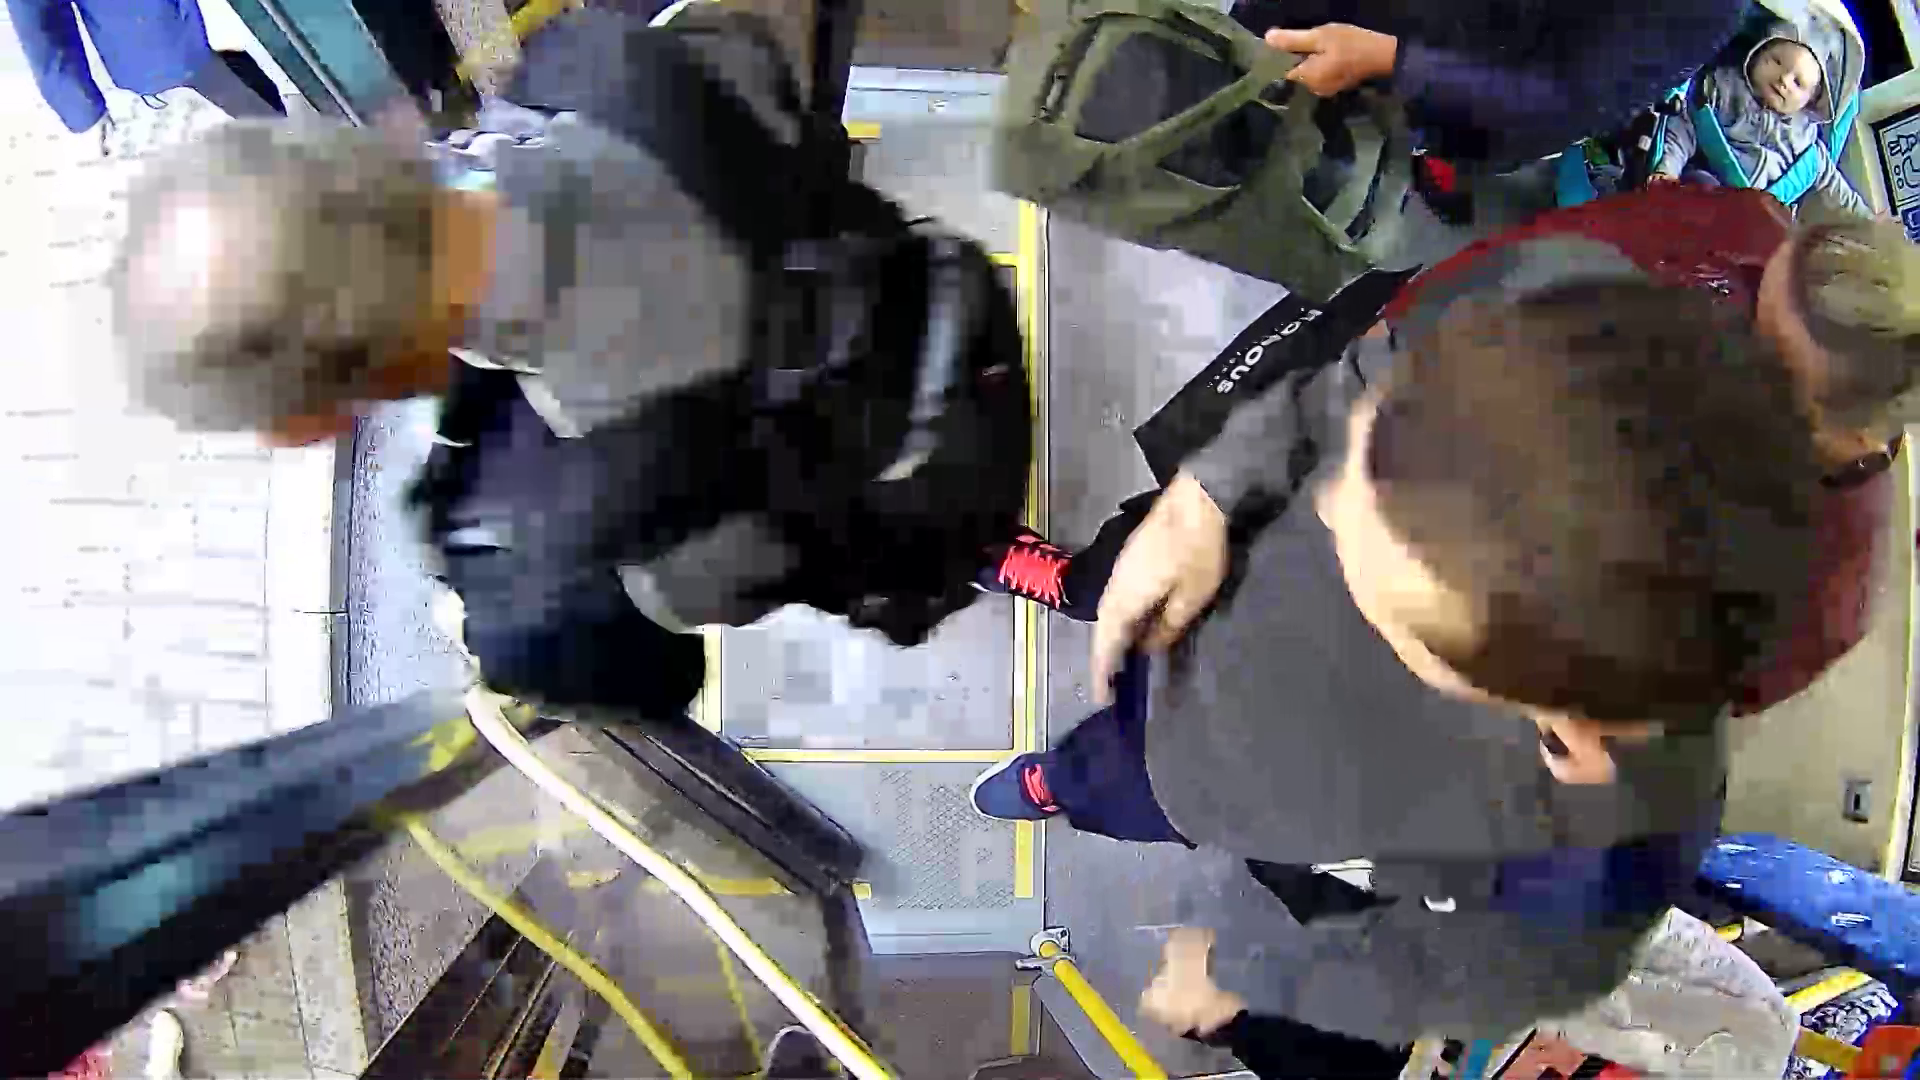person: (129, 28, 1001, 672), (1123, 219, 1845, 976)
